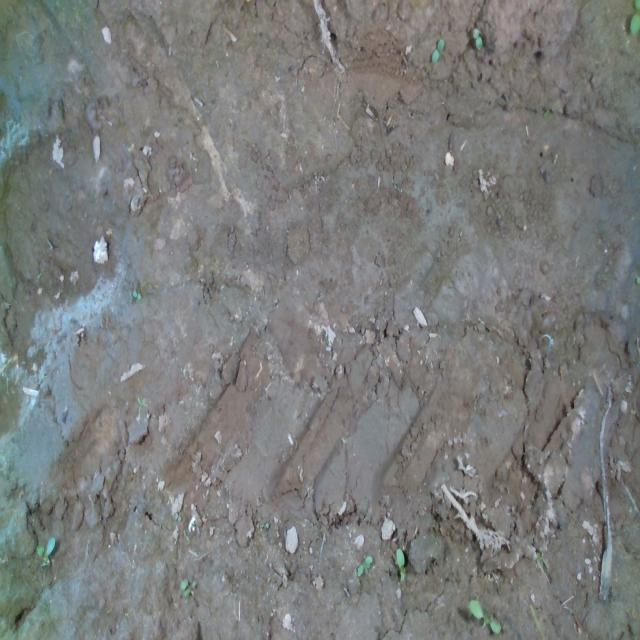weed: (467, 596, 501, 634), (34, 534, 56, 567), (355, 554, 372, 576), (179, 577, 197, 596), (396, 546, 406, 580), (431, 37, 444, 63), (472, 26, 482, 49), (132, 289, 142, 300), (552, 152, 558, 165)
